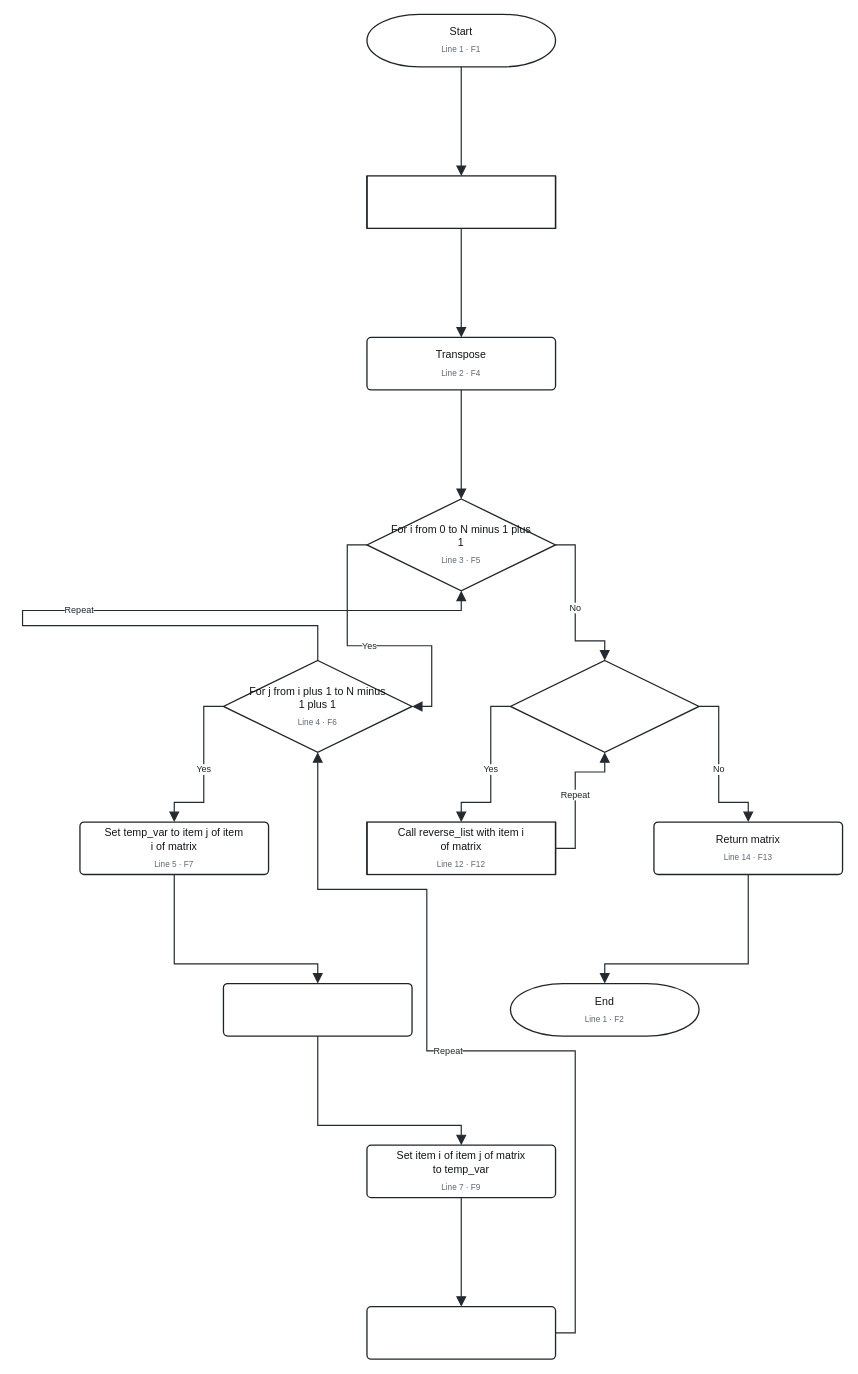
The diagram is 858 pixels wide and 1374 high, and some of its shapes have lost their labels. The centre of each missing label's shape, as x and y in pixels:
"For i from 0 to N minus 1 plus 1 Line 11 · F11" goes at [604,706].
"Reverse each row Line 8 · F10" goes at [461,1332].
"Run function rotateMatrix with matrix, N Line 1 · F3" goes at [461,202].
"Set item j of item i of matrix to item i of item j of matrix Line 6 · F8" goes at [317,1009].
